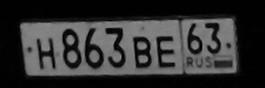license-plateSW: (20, 15, 238, 78)
